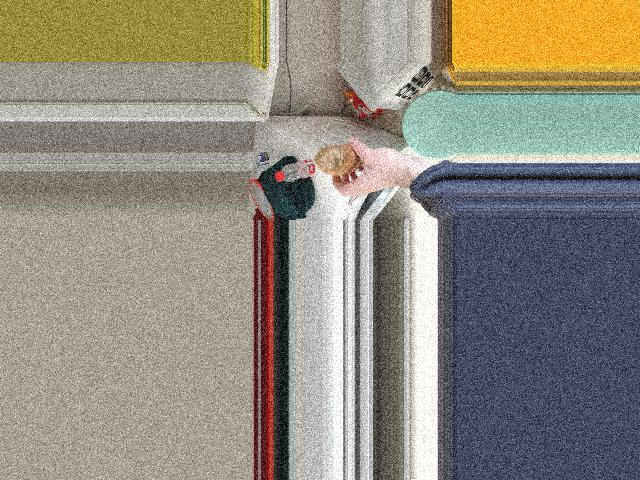sweet_potato: (316, 140, 368, 182)
